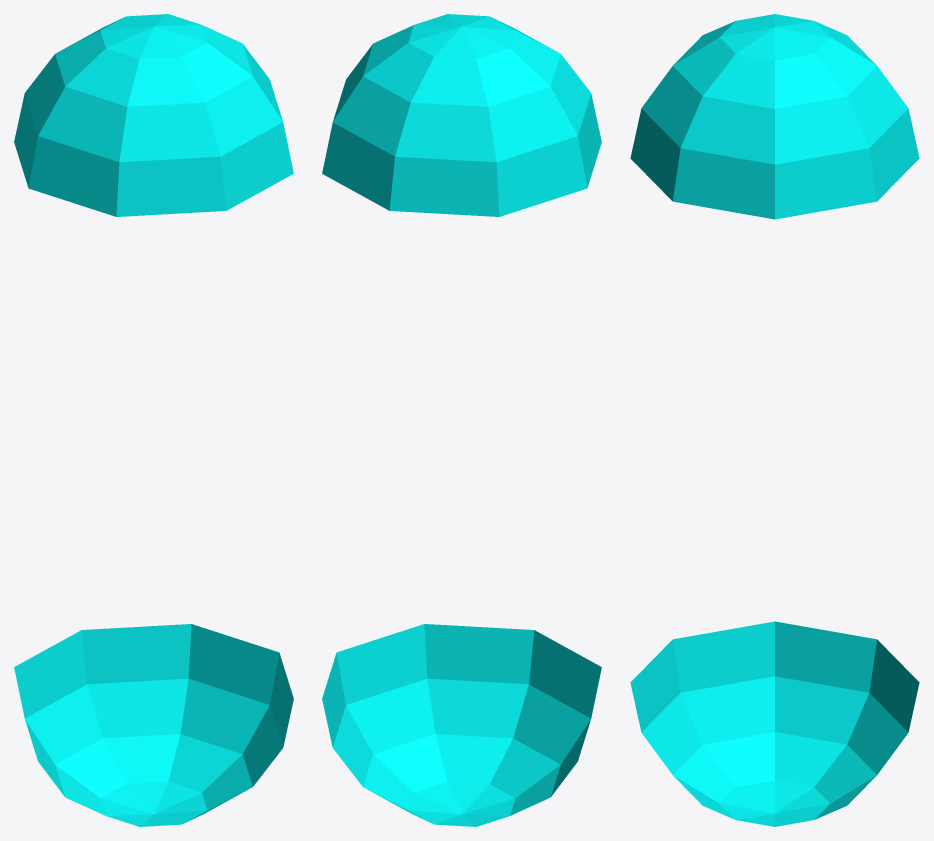
Rendered from spirit_wolf.glb.
The picture shows the model from 3 angles, left to right: view 1: azimuth 30°, elevation 25°; view 2: azimuth 150°, elevation 25°; view 3: azimuth 270°, elevation 25°; orthographic projection.
Parts seen in each view (by area): view 1: Spirit Wolf; view 2: Spirit Wolf; view 3: Spirit Wolf.
Part boxes in pixels (x1,y1,x2,y2): Spirit Wolf: (14,14,293,826); Spirit Wolf: (322,14,601,826); Spirit Wolf: (630,14,919,826).
Size of the model in its own units: 1 by 3 by 1.
